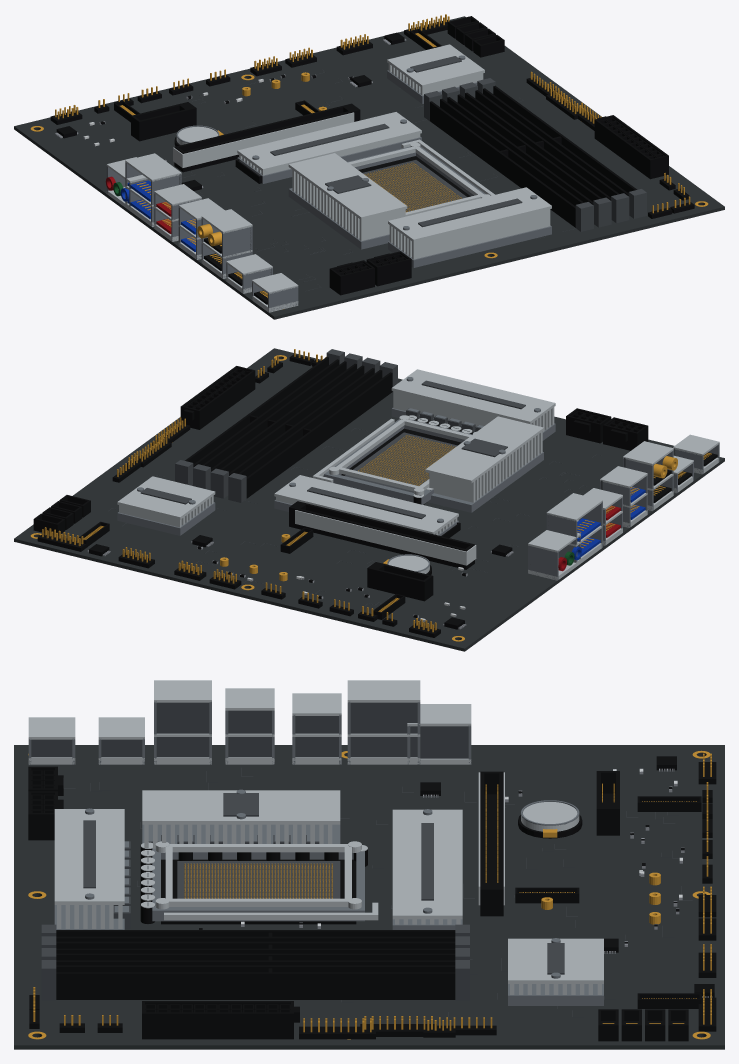
File: L131_ASSEMBLED.fbx
3 views of the same model, one above another, from view 1: azimuth 30°, elevation 25°; view 2: azimuth 150°, elevation 25°; view 3: azimuth 270°, elevation 25° (orthographic). The views are drawn at different scales.
Visible parts, largest first — view 1: PCB_PCB, VRM_TOP_HEATSINK_Silver, VRM_LEFT_HEATSINK_Silver, DDR5_A1_Black, M2_1_HEATSINK_Silver, CHIPSET_HEATSINK_Silver, CPU_LGA1700_Gray, DDR5_A2_Black, DDR5_B1_Black, DDR5_B2_Black, ATXPWR1_Black, PCIE1_Silver (+31 smaller); view 2: PCB_PCB, VRM_LEFT_HEATSINK_Silver, VRM_TOP_HEATSINK_Silver, DDR5_A1_Black, M2_1_HEATSINK_Silver, CPU_LGA1700_Gray, CHIPSET_HEATSINK_Silver, PCIE1_Black, PCIE1_Silver, DDR5_B2_Black, DDR5_A2_Black, DDR5_B1_Black (+29 smaller); view 3: PCB_PCB, DDR5_B2_Black, VRM_LEFT_HEATSINK_Silver, M2_1_HEATSINK_Silver, VRM_TOP_HEATSINK_Silver, CPU_LGA1700_Silver, CPU_LGA1700_Gray, ATXPWR1_Black, DDR5_A2_Black, DDR5_B1_Black, DDR5_A1_Black, CHIPSET_HEATSINK_Silver (+41 smaller).
Part boxes in pixels (x1,y1,x2,y2): PCB_PCB: [14, 16, 724, 319]; VRM_TOP_HEATSINK_Silver: [388, 187, 551, 259]; VRM_LEFT_HEATSINK_Silver: [288, 153, 407, 240]; DDR5_A1_Black: [429, 99, 583, 227]; M2_1_HEATSINK_Silver: [237, 112, 421, 175]; CHIPSET_HEATSINK_Silver: [387, 44, 484, 95]; CPU_LGA1700_Gray: [362, 160, 466, 211]; DDR5_A2_Black: [447, 94, 601, 204]; DDR5_B1_Black: [465, 90, 619, 200]; DDR5_B2_Black: [483, 85, 637, 195]; ATXPWR1_Black: [594, 115, 668, 179]; PCIE1_Silver: [173, 112, 354, 167]; PCB_PCB: [14, 348, 724, 651]; VRM_LEFT_HEATSINK_Silver: [425, 416, 543, 502]; VRM_TOP_HEATSINK_Silver: [391, 369, 555, 431]; DDR5_A1_Black: [238, 370, 392, 498]; M2_1_HEATSINK_Silver: [274, 475, 458, 535]; CPU_LGA1700_Gray: [344, 432, 457, 492]; CHIPSET_HEATSINK_Silver: [117, 476, 215, 527]; PCIE1_Black: [289, 501, 474, 569]; PCIE1_Silver: [295, 510, 476, 565]; DDR5_B2_Black: [185, 357, 339, 467]; DDR5_A2_Black: [220, 365, 374, 475]; DDR5_B1_Black: [202, 361, 356, 471]; PCB_PCB: [14, 745, 724, 1049]; DDR5_B2_Black: [56, 965, 455, 999]; VRM_LEFT_HEATSINK_Silver: [142, 790, 340, 848]; M2_1_HEATSINK_Silver: [392, 809, 462, 924]; VRM_TOP_HEATSINK_Silver: [54, 809, 124, 928]; CPU_LGA1700_Silver: [155, 841, 378, 920]; CPU_LGA1700_Gray: [177, 861, 340, 898]; ATXPWR1_Black: [142, 1001, 299, 1039]; DDR5_A2_Black: [56, 941, 455, 953]; DDR5_B1_Black: [56, 953, 455, 965]; DDR5_A1_Black: [56, 930, 455, 941]; CHIPSET_HEATSINK_Silver: [508, 938, 603, 994].
Bounding box in the file's own units: 24.75 × 2.61 × 24.4.
